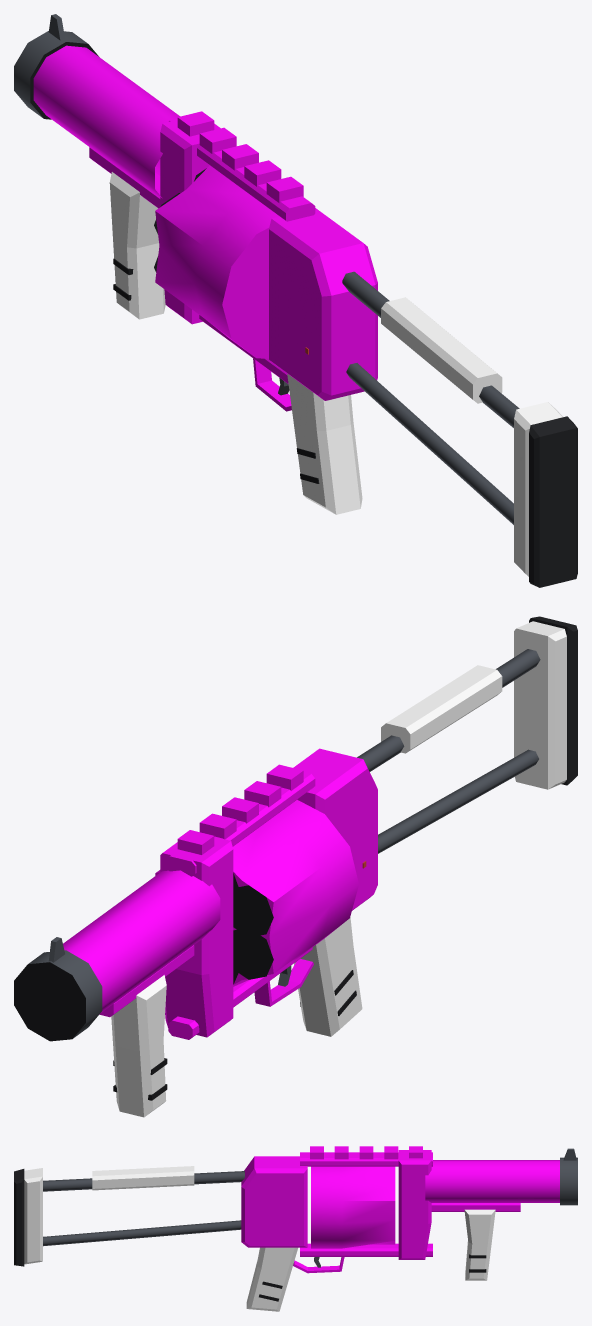
The model's file is launcher_grenade.glb.
3 views of the same model, one above another, from view 1: azimuth 30°, elevation 25°; view 2: azimuth 150°, elevation 25°; view 3: azimuth 270°, elevation 25° (orthographic). The views are drawn at different scales.
Parts seen in each view (by area): view 1: launcher_grenade__body, launcher_grenade__cylinder; view 2: launcher_grenade__body, launcher_grenade__cylinder; view 3: launcher_grenade__body, launcher_grenade__cylinder.
Part boxes in pixels (box(x1,y1,x2,y2)): launcher_grenade__body: box(14, 14, 577, 587); launcher_grenade__cylinder: box(154, 165, 279, 358); launcher_grenade__body: box(14, 616, 577, 1117); launcher_grenade__cylinder: box(155, 799, 358, 986); launcher_grenade__body: box(14, 1146, 577, 1311); launcher_grenade__cylinder: box(311, 1166, 395, 1248).
Bounding box in the file's own units: 0.112 × 0.224 × 0.72.
Materials: 1 (1 with a texture image).
